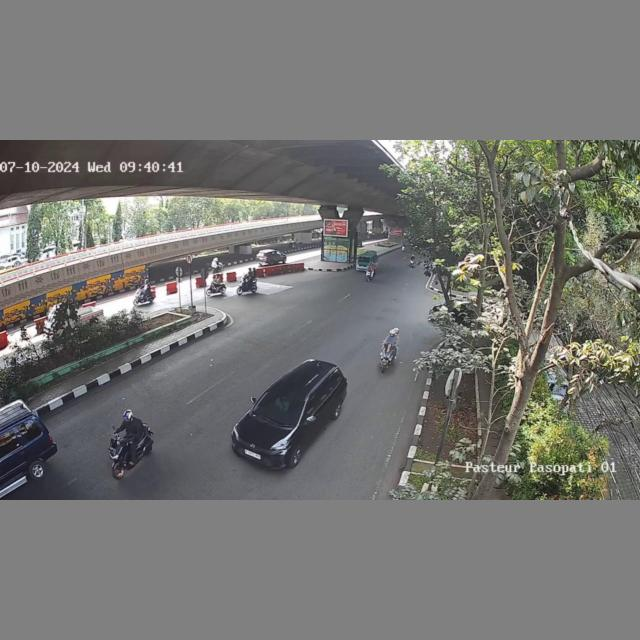windshield: (254, 390, 307, 428)
